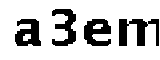3: (48, 7, 81, 50)
a: (11, 17, 43, 51)
e: (83, 16, 113, 50)
m: (115, 13, 160, 52)
